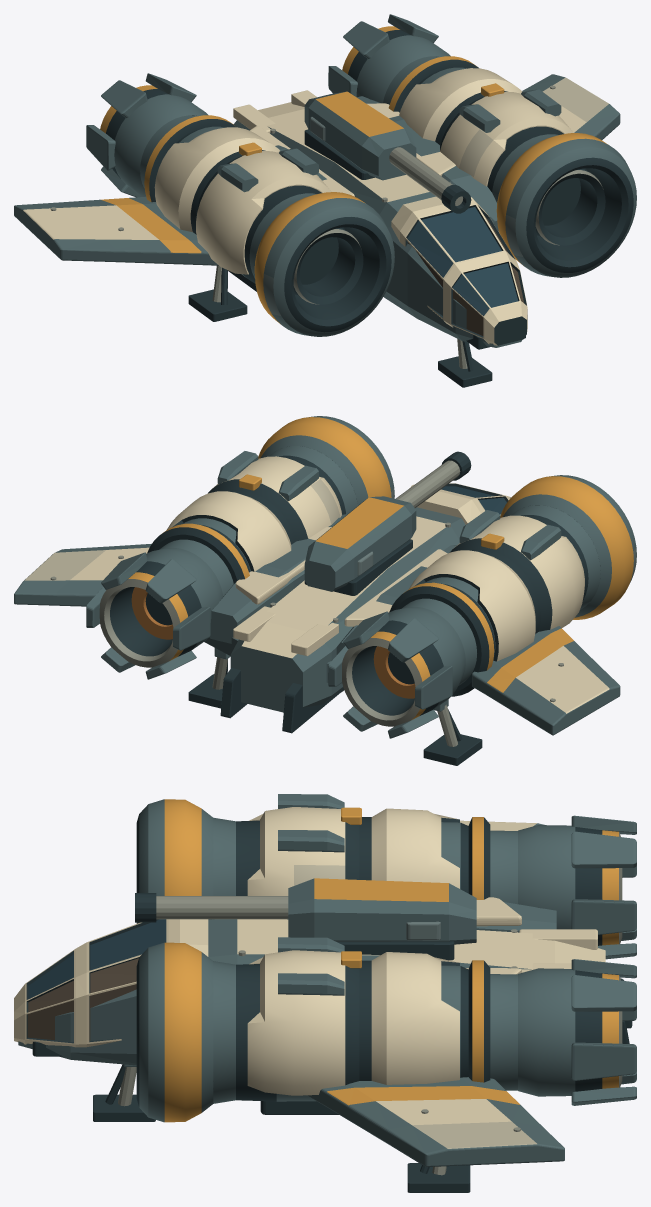
Rendered from buccaneer_01.glb.
The picture shows the model from 3 angles, top to bottom: view 1: azimuth 30°, elevation 25°; view 2: azimuth 150°, elevation 25°; view 3: azimuth 270°, elevation 25°; orthographic projection. The views are drawn at different scales.
Visible parts, largest first — view 1: buccaneer_01; view 2: buccaneer_01; view 3: buccaneer_01.
Part boxes in pixels (x1,y1,x2,y2): buccaneer_01: [14, 14, 636, 387]; buccaneer_01: [14, 416, 636, 765]; buccaneer_01: [14, 794, 636, 1192].
Bounding box in the file's own units: 13.85 × 4.56 × 11.
